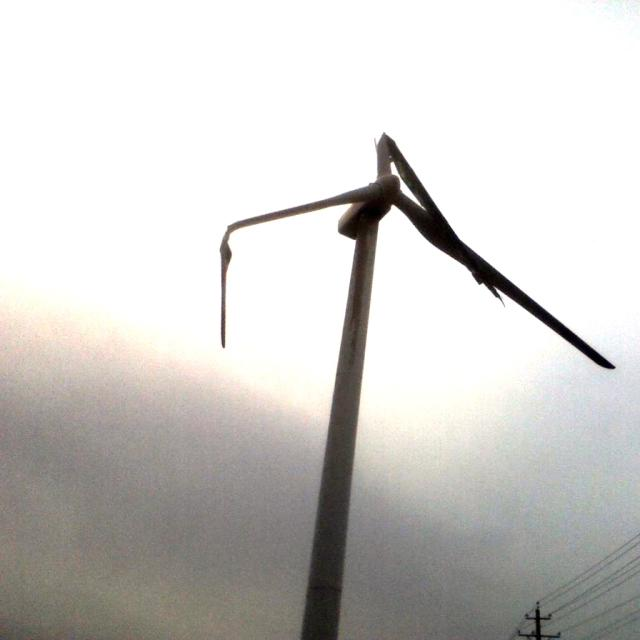crack: (370, 125, 496, 298), (204, 215, 254, 352)
